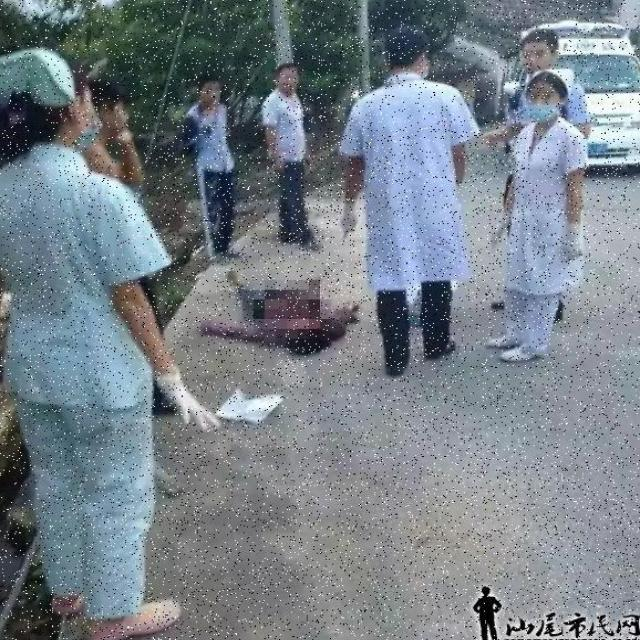fall: (202, 266, 360, 353)
